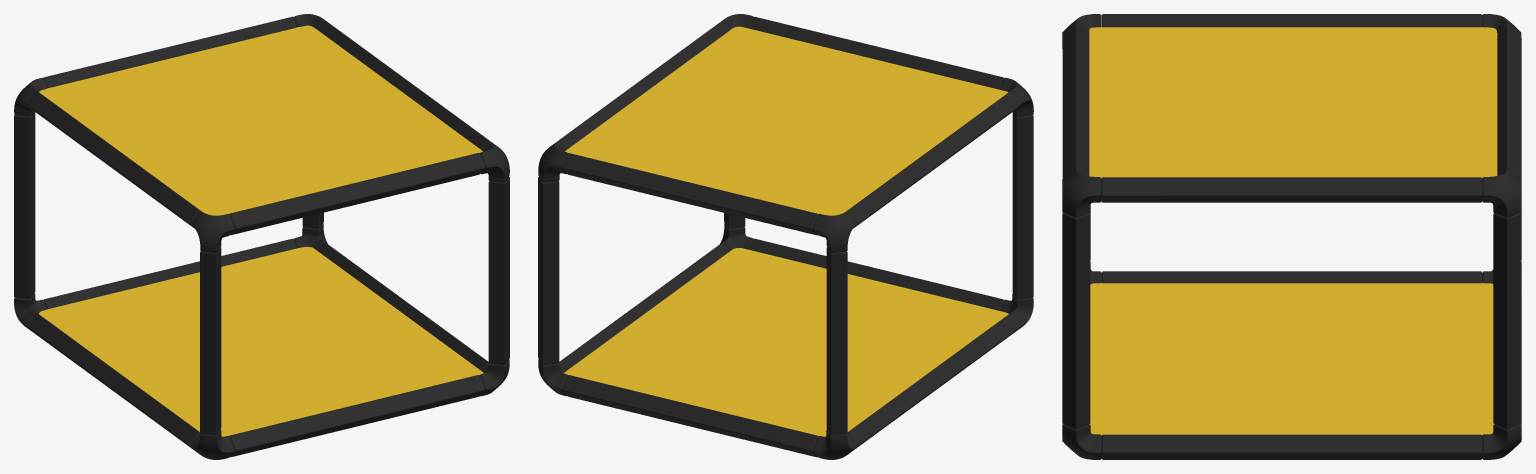
3 views of the same model, side by side, from view 1: azimuth 30°, elevation 25°; view 2: azimuth 150°, elevation 25°; view 3: azimuth 270°, elevation 25° (orthographic). The views are drawn at different scales.
Visible parts, largest first — view 1: 329x374x229; view 2: 329x374x229; view 3: 329x374x229.
Part boxes in pixels (x1,y1,x2,y2): 329x374x229: (14,14,509,459); 329x374x229: (538,14,1033,459); 329x374x229: (1062,14,1521,459).
Size of the model in its own units: 0.4067 by 0.3066 by 0.4513.
